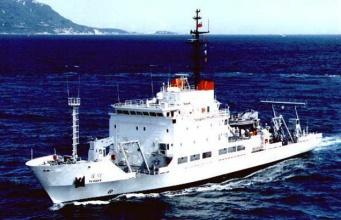warship: (28, 68, 315, 206)
